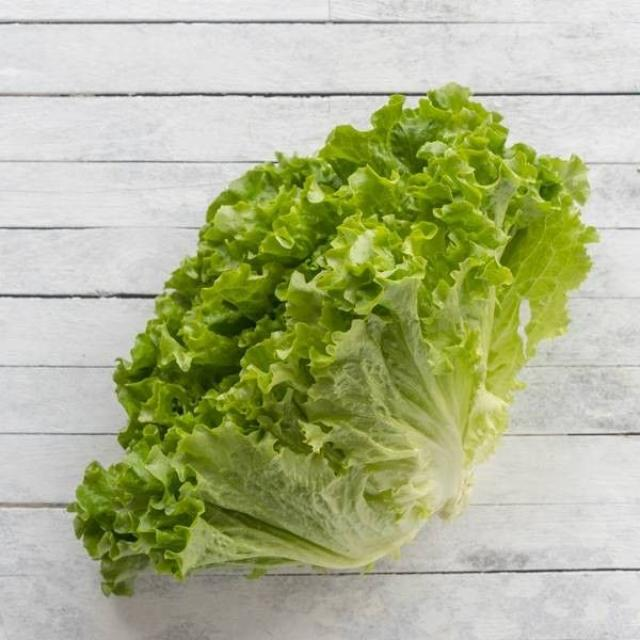lettuce: (72, 86, 595, 594)
